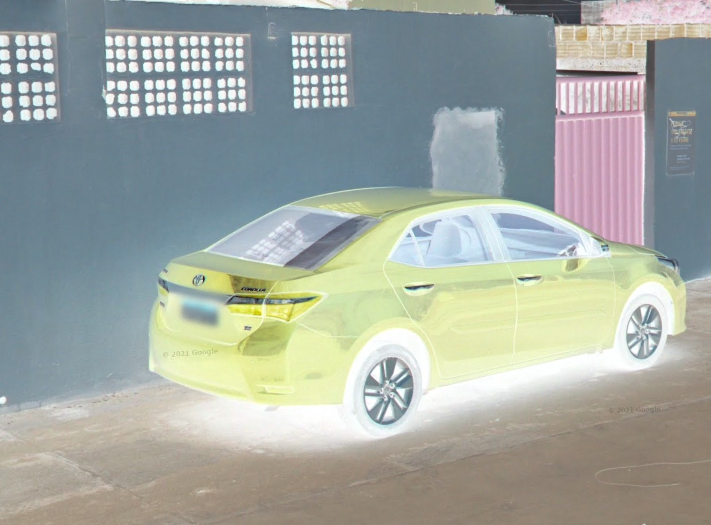car: (143, 184, 688, 438)
